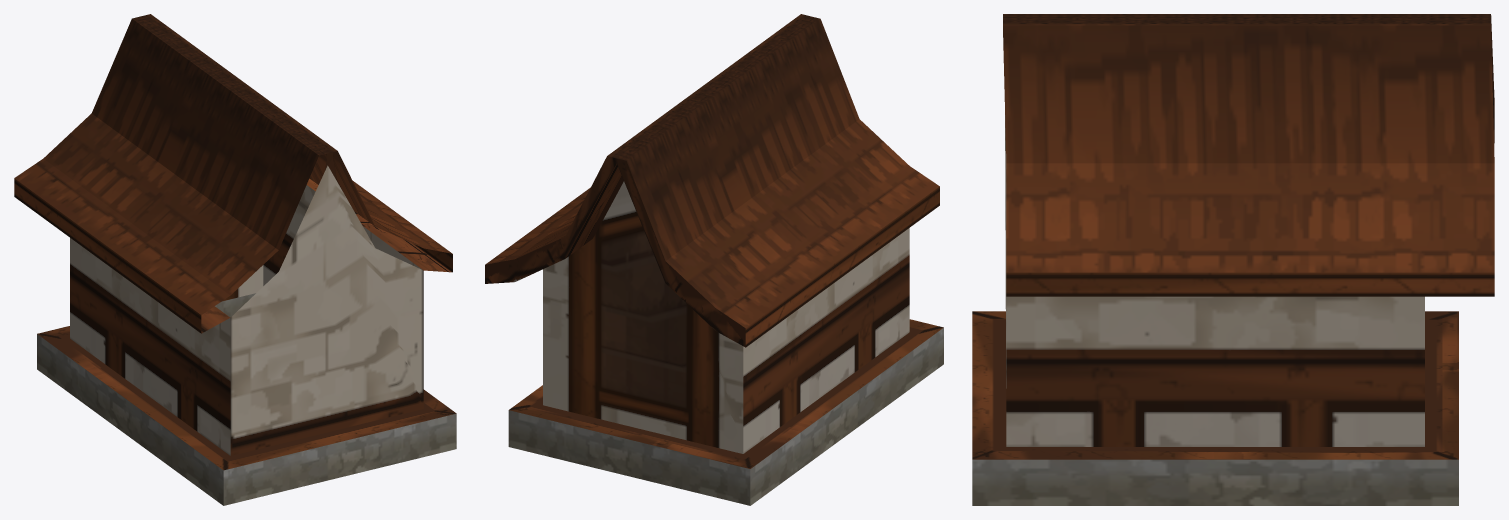
Rendered from Sharp Roof.fbx.
3 views of the same model, side by side, from view 1: azimuth 30°, elevation 25°; view 2: azimuth 150°, elevation 25°; view 3: azimuth 270°, elevation 25° (orthographic). The views are drawn at different scales.
Parts seen in each view (by area): view 1: Roof Window 3; view 2: Roof Window 3; view 3: Roof Window 3.
Boxes of the visible parts, x1,y1,x2,y2 form: Roof Window 3: (14, 14, 456, 505); Roof Window 3: (485, 14, 943, 505); Roof Window 3: (972, 14, 1494, 505).
Bounding box in the file's own units: 134 × 160 × 184.
